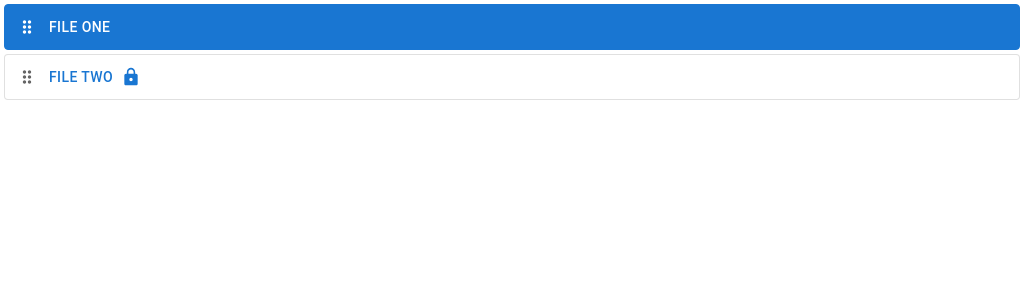
EditorWorkingFiles › restores the prior order and keeps focus when saving fails
Click the button named "Reorder File Two" at (27, 77), box x1=5 y1=55 x2=49 y2=99
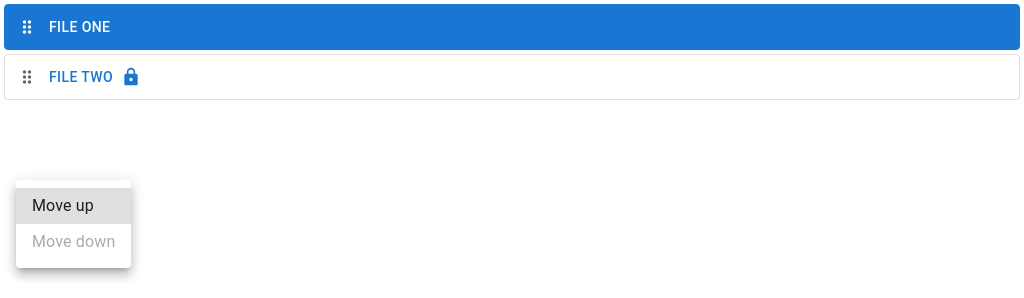
Click the menu item with aria-label "Move up File Two" at (74, 206), box x1=16 y1=188 x2=131 y2=224
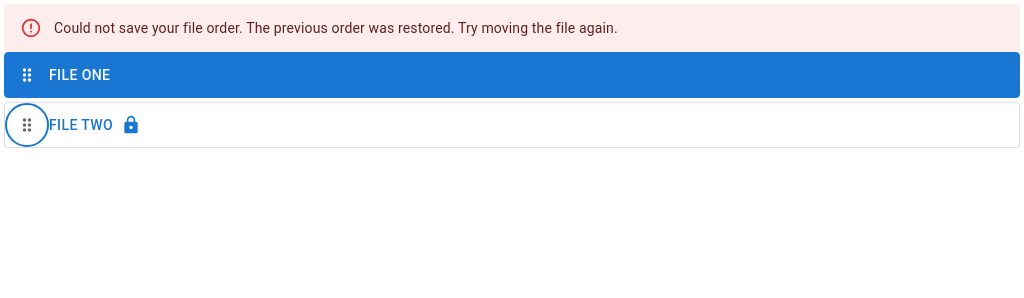
expect the message shows "Could not save your file order. The previous order was restored. Try moving the file again.": met, box x1=54 y1=20 x2=618 y2=36
